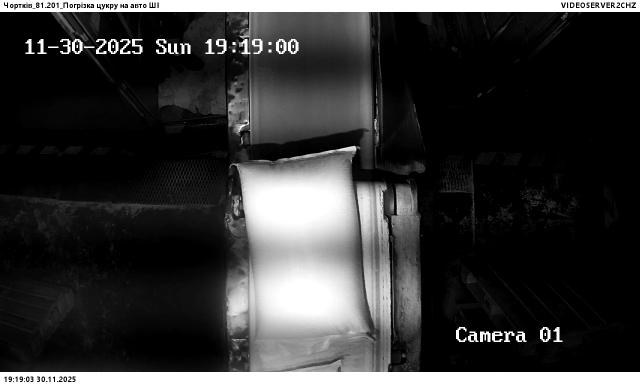bag: (232, 146, 382, 349)
